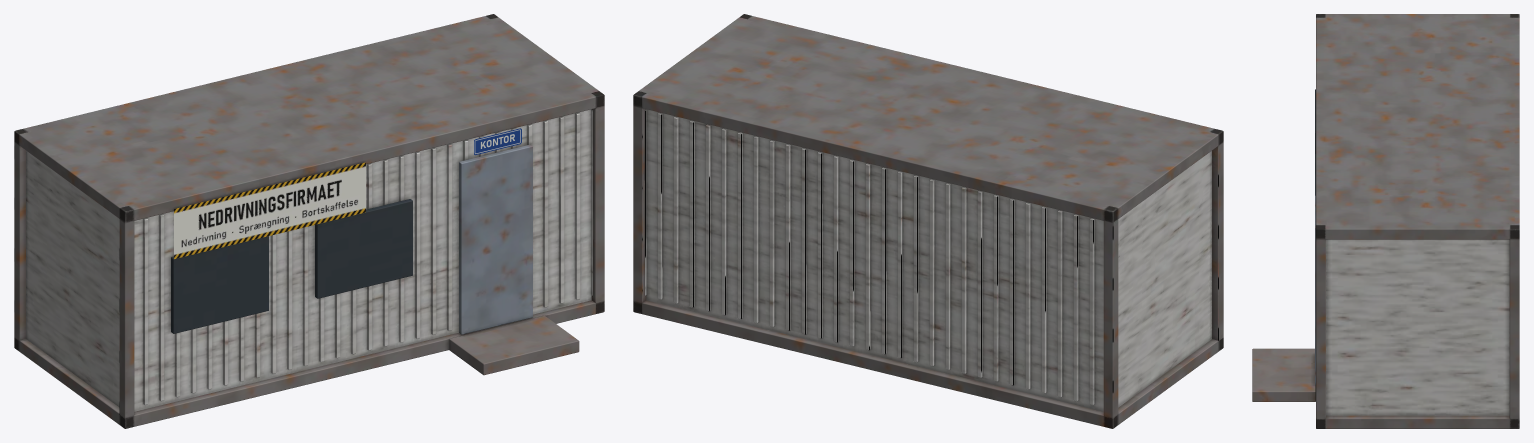
The model's file is skurvogn.glb.
The picture shows the model from 3 angles, left to right: view 1: azimuth 30°, elevation 25°; view 2: azimuth 150°, elevation 25°; view 3: azimuth 270°, elevation 25°; orthographic projection. The views are drawn at different scales.
Visible parts, largest first — view 1: skurvogn, skilt, kontor; view 2: skurvogn; view 3: skurvogn.
Boxes of the visible parts, x1,y1,x2,y2 form: skurvogn: [14, 14, 604, 428]; skilt: [174, 162, 365, 259]; kontor: [474, 128, 521, 155]; skurvogn: [633, 14, 1223, 428]; skurvogn: [1252, 14, 1519, 428].
Size of the model in its own units: 6 by 2.6 by 3.15.
3 materials, 3 textured.
